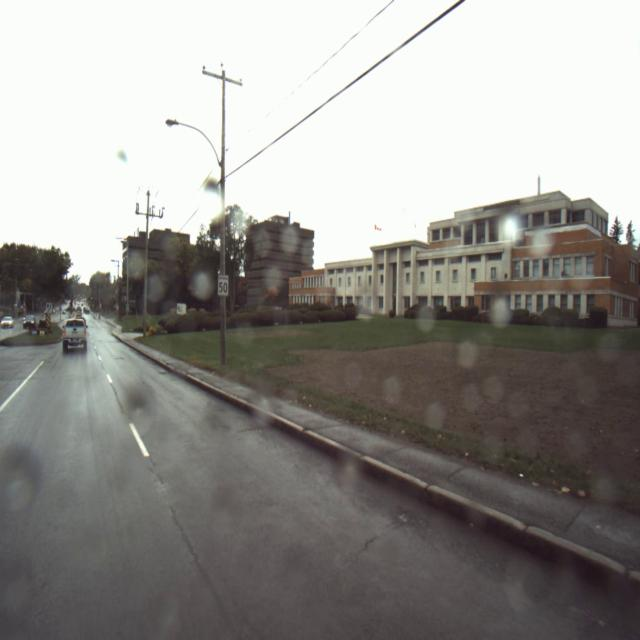car: (63, 319, 87, 352), (23, 314, 37, 330), (1, 315, 15, 328)
